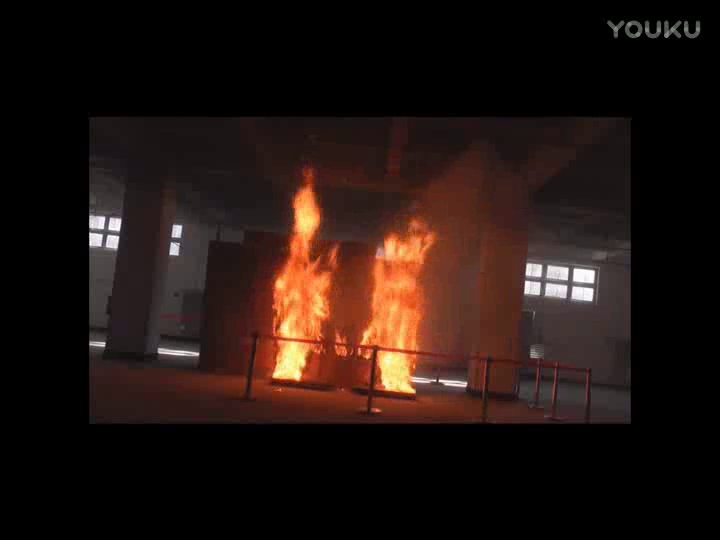fire: (271, 170, 337, 387), (359, 216, 431, 393)
